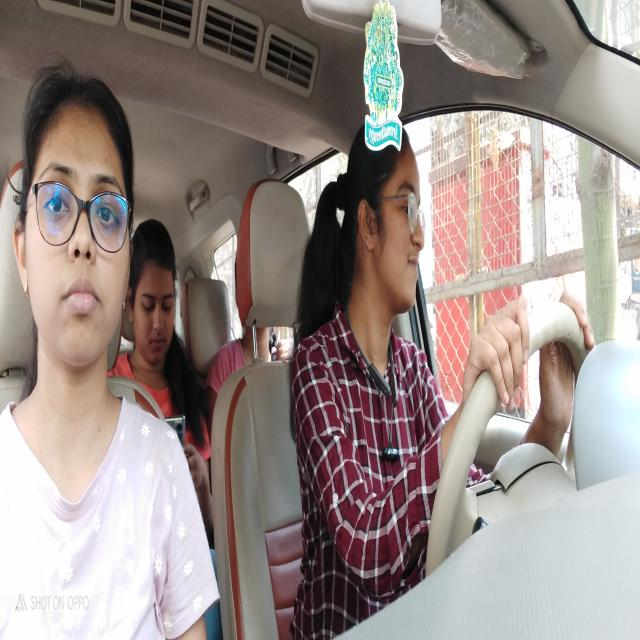person: (13, 78, 136, 354), (135, 216, 177, 368)
